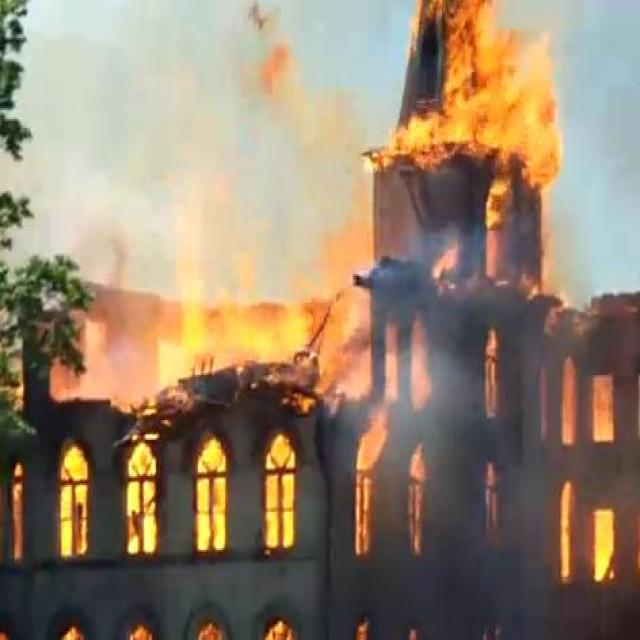Fire: (391, 0, 564, 199), (175, 252, 332, 388), (356, 418, 432, 548), (182, 428, 227, 568), (261, 429, 302, 578), (54, 443, 102, 570), (121, 437, 157, 572), (549, 482, 584, 583), (558, 360, 588, 454), (486, 325, 512, 432), (585, 371, 621, 448), (586, 506, 616, 593)
Smoke: (156, 85, 365, 302), (60, 319, 156, 412), (362, 326, 440, 424)
